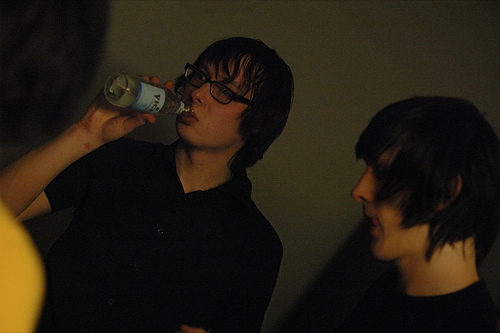without_mask: (349, 125, 485, 274), (172, 49, 272, 166)
